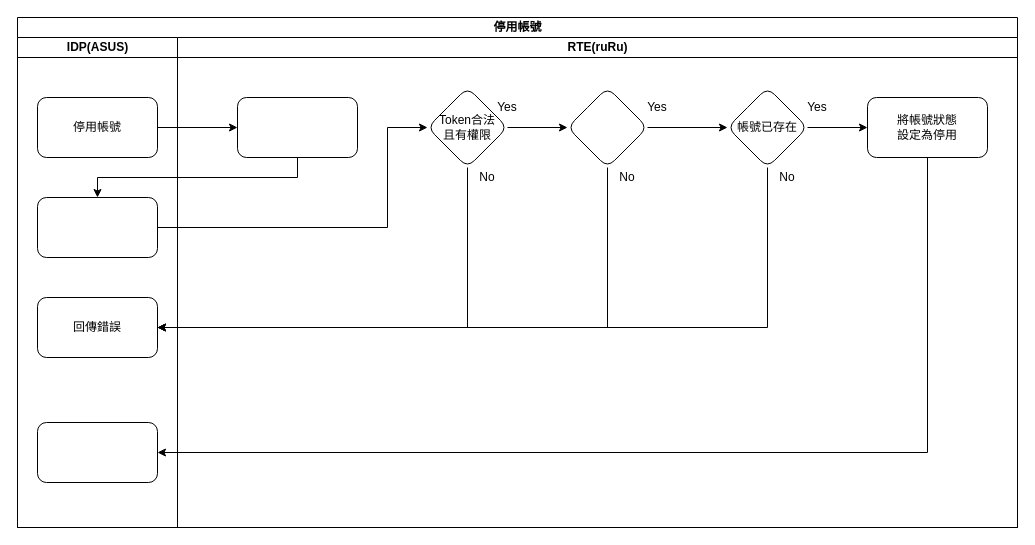
The diagram is 1035 pixels wide and 545 high, and some of its shapes have lost their labels. Each missing label, with the box of its shape:
企業已存在: (566, 86, 648, 168)
回傳執行結果: (36, 422, 158, 482)
接收參數資訊 並驗證Token: (236, 96, 358, 158)
驗證Token: (36, 196, 158, 258)
